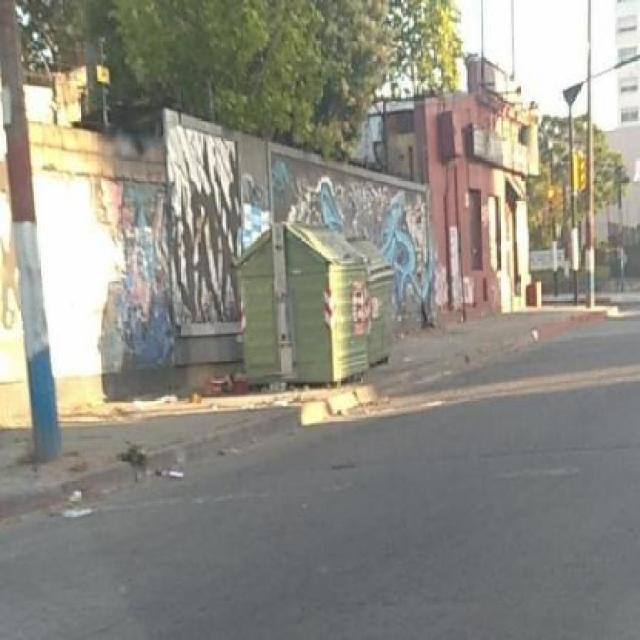garbage: (205, 360, 318, 413), (135, 393, 202, 416), (60, 491, 98, 516), (160, 462, 192, 486)
